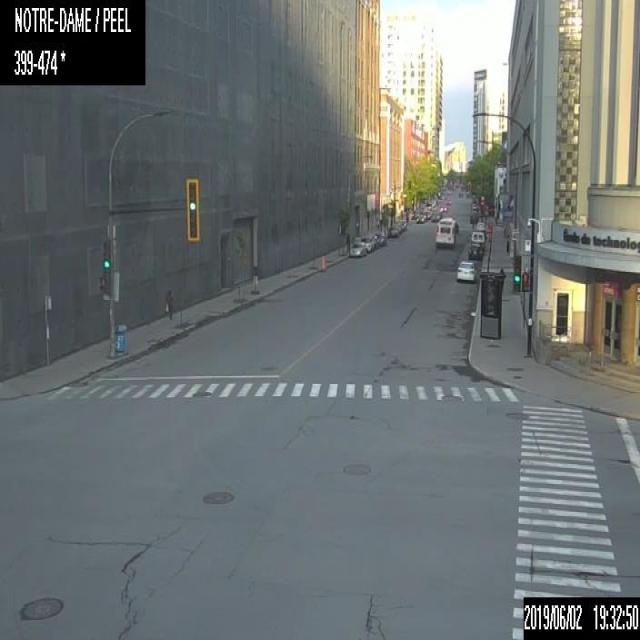bus: (435, 216, 457, 247)
pedestrian: (165, 289, 172, 319)
vehicle: (467, 230, 485, 258), (456, 260, 476, 281), (360, 233, 374, 251), (349, 241, 365, 256), (386, 225, 398, 236), (376, 233, 386, 246), (390, 223, 400, 234), (431, 211, 442, 220), (397, 218, 406, 229), (415, 213, 424, 222), (423, 210, 431, 218), (439, 204, 447, 212)
